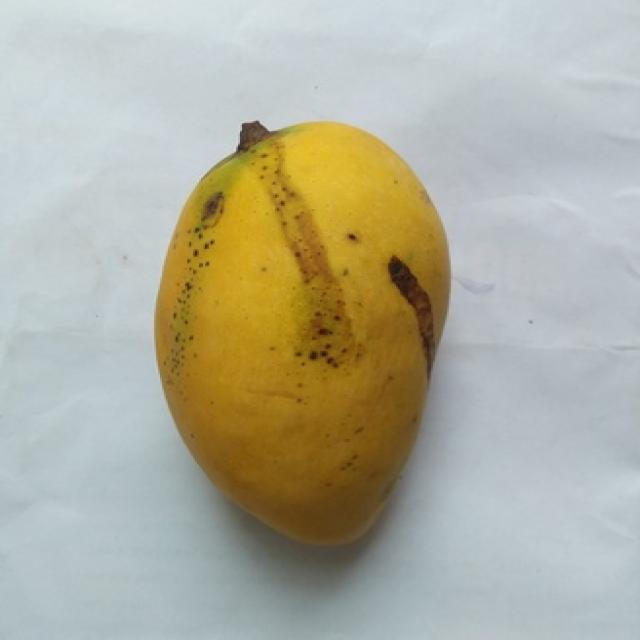Mango: (156, 123, 447, 543)
